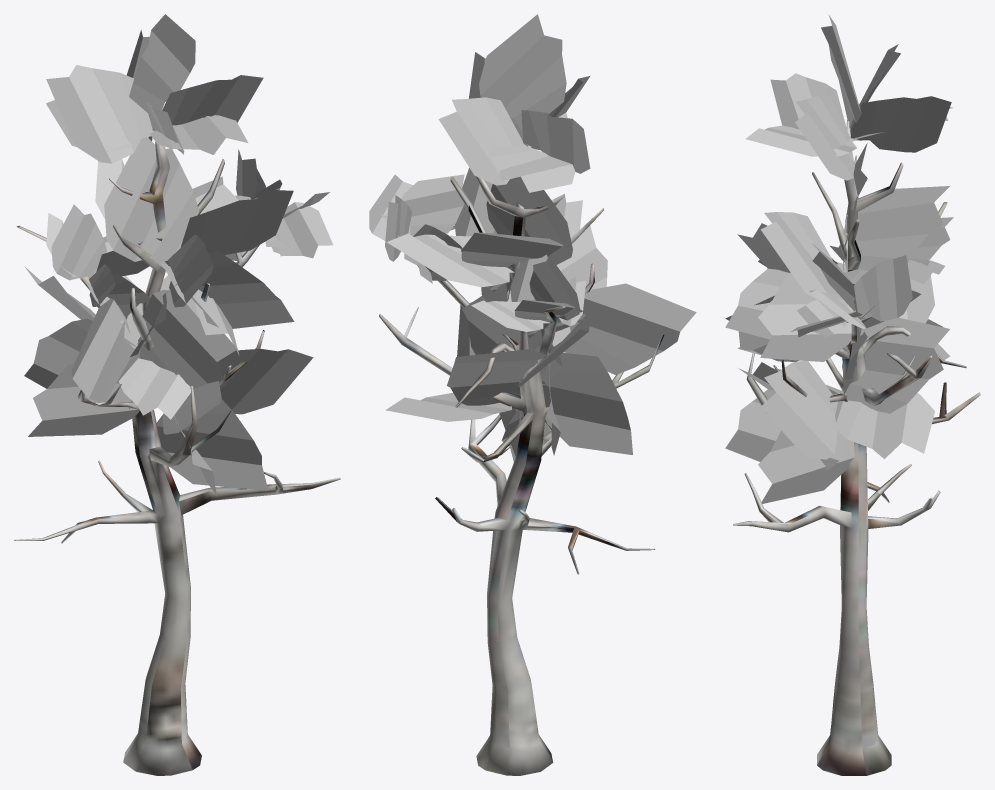
The model's file is 1234drzewo.fbx.
The picture shows the model from 3 angles, left to right: view 1: azimuth 30°, elevation 25°; view 2: azimuth 150°, elevation 25°; view 3: azimuth 270°, elevation 25°; orthographic projection. The views are drawn at different scales.
Visible parts, largest first — view 1: Plane.012, Cube; view 2: Plane.012, Cube; view 3: Plane.012, Cube.
Boxes of the visible parts, x1,y1,x2,y2 form: Plane.012: (24,14,333,495); Cube: (14,130,340,775); Plane.012: (369,14,696,461); Cube: (379,139,664,775); Plane.012: (725,14,953,503); Cube: (733,120,980,775).
Size of the model in its own units: 934 by 2265 by 708.
